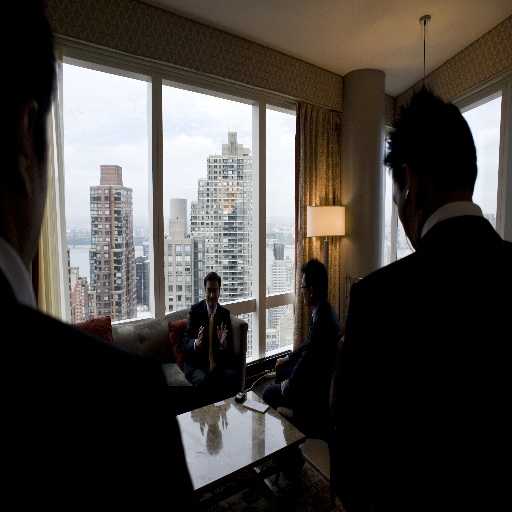hand: (216, 321, 229, 348), (197, 324, 206, 351), (279, 379, 289, 397), (274, 358, 285, 369)
